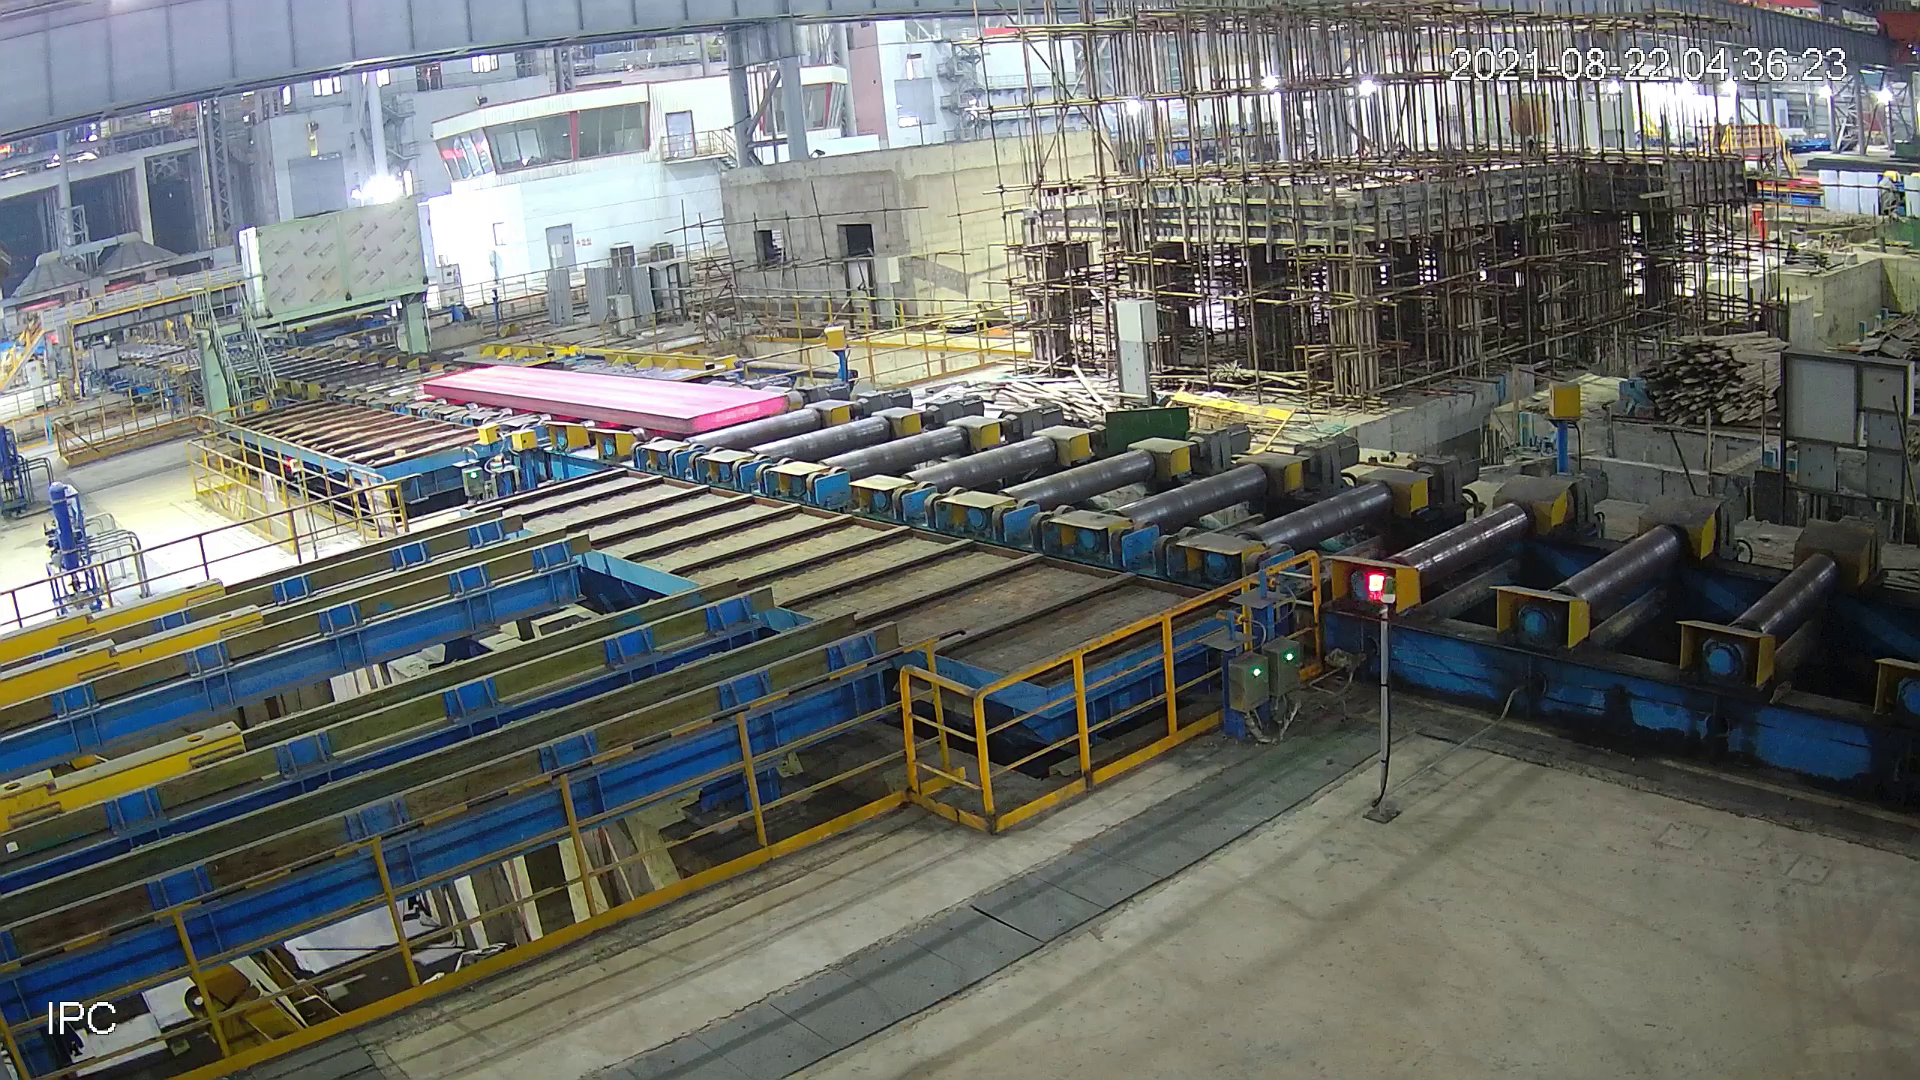slab: (418, 357, 791, 436)
